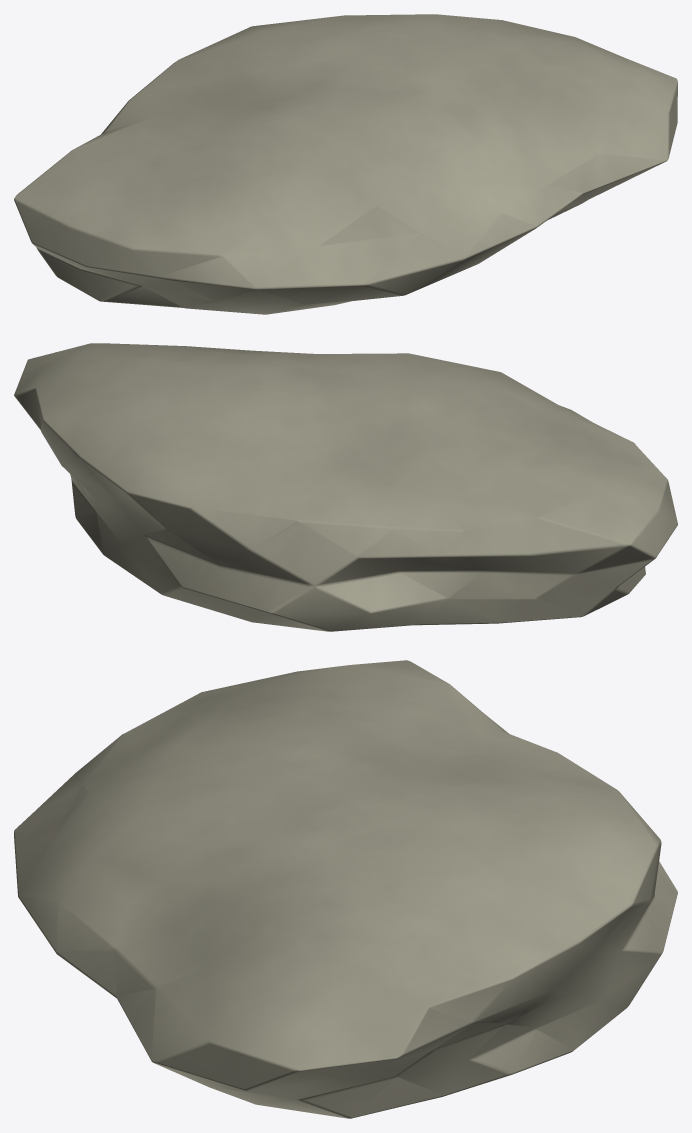
The model's file is rock-slab-160.glb.
3 renders of one model, top to bottom at view 1: azimuth 30°, elevation 25°; view 2: azimuth 150°, elevation 25°; view 3: azimuth 270°, elevation 25°, orthographic. The views are drawn at different scales.
Parts seen in each view (by area): view 1: rock-slab-160 / N01 / warm weathered granite; view 2: rock-slab-160 / N01 / warm weathered granite; view 3: rock-slab-160 / N01 / warm weathered granite.
Boxes of the visible parts, x1=… form: rock-slab-160 / N01 / warm weathered granite: x1=14, y1=14, x2=677, y2=314; rock-slab-160 / N01 / warm weathered granite: x1=14, y1=343, x2=677, y2=631; rock-slab-160 / N01 / warm weathered granite: x1=14, y1=660, x2=677, y2=1118.
Size of the model in its own units: 1.79 by 0.368 by 1.23.
2 materials, 1 textured.
